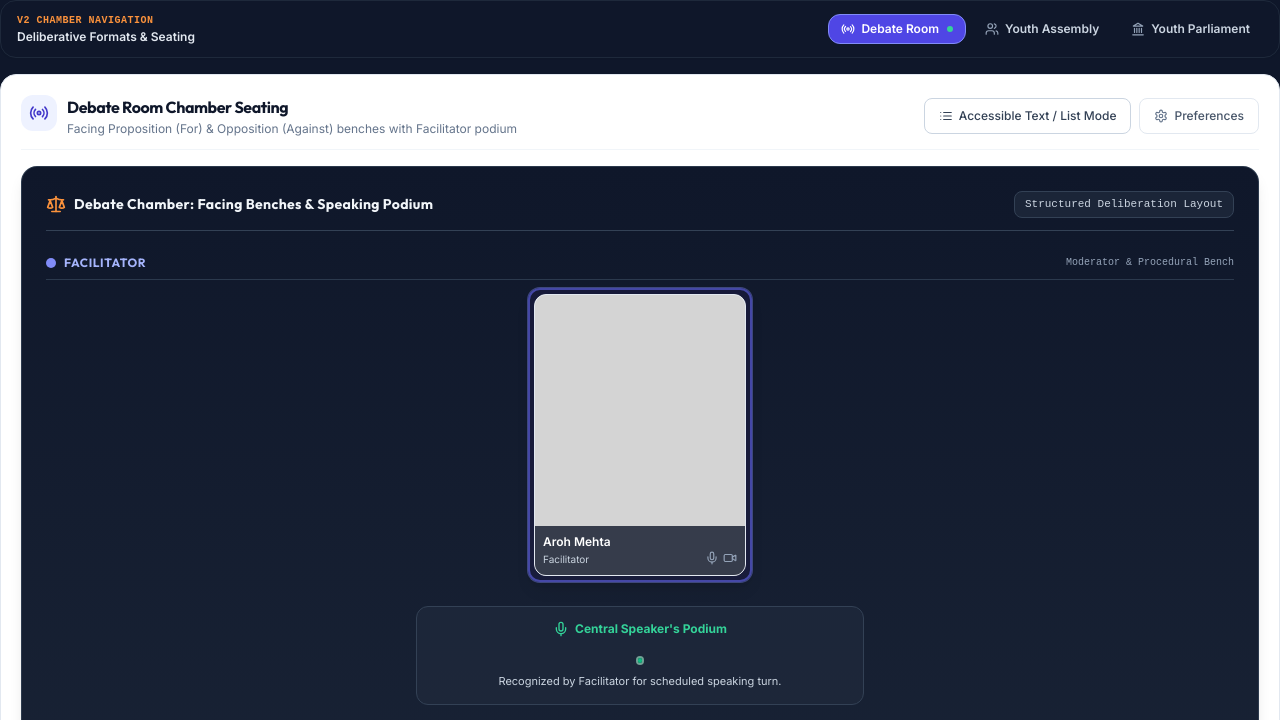
Test: Review Additions #4: Text Mode, Low Data Preference & Session Continuity › 5. Low Data Preference in Settings Surface › reactively toggles Low Data indicator in SessionSeating immediately upon preference toggle without closing modal
# Open Preferences
Click the button with test id "session-settings-btn". click: (1199, 116)
box: top-left (1139, 98), bottom-right (1259, 134)
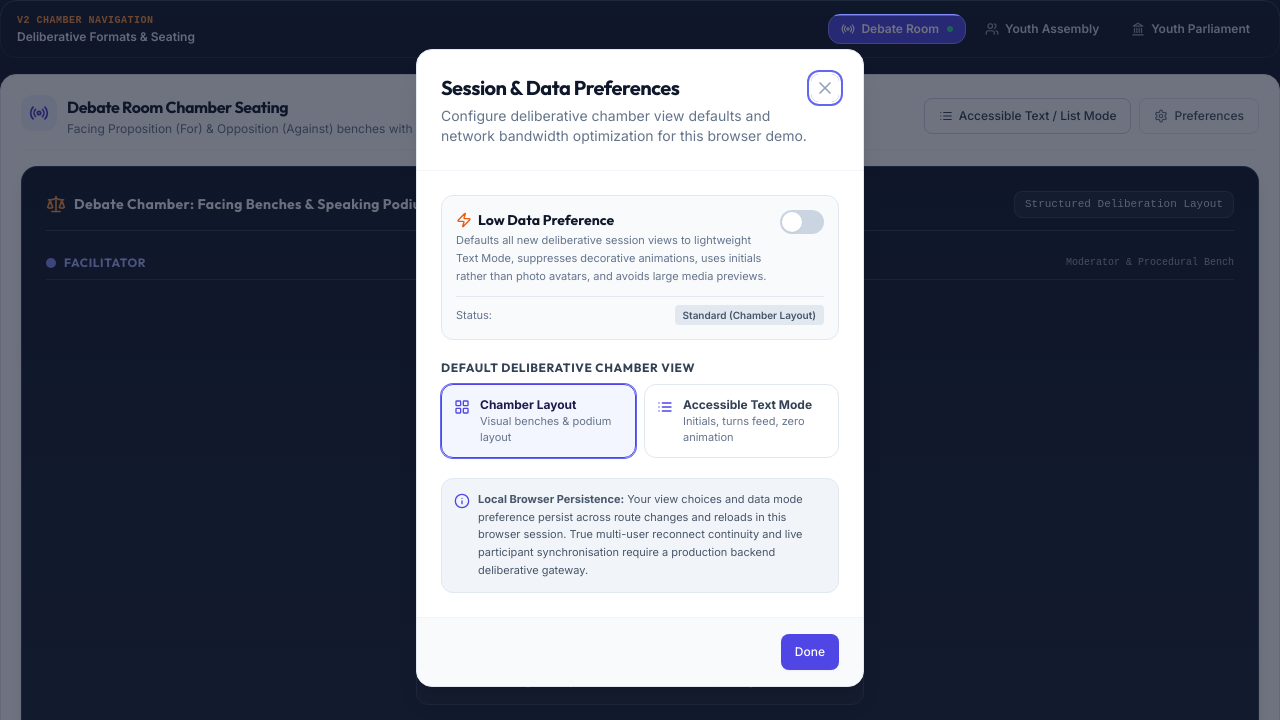
Expected: the element with test id "settings-surface-modal" is shown, top-left (441, 195), bottom-right (839, 593)
# Click toggle switch inside modal
Click the switch with test id "low-data-toggle". click: (802, 222)
box: top-left (780, 210), bottom-right (824, 234)
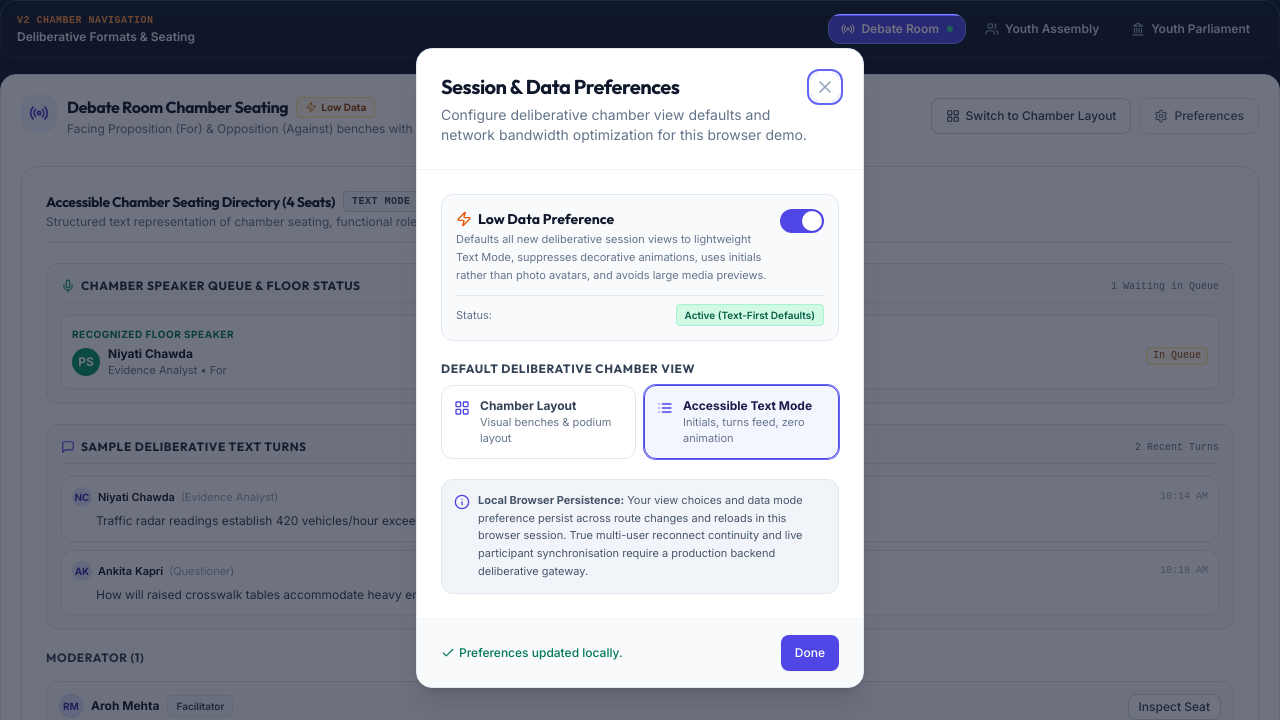
Expected: the element with test id "low-data-indicator" is shown, top-left (296, 96), bottom-right (375, 118)
# Toggle back off
Click the switch with test id "low-data-toggle". click: (802, 221)
box: top-left (780, 209), bottom-right (824, 233)
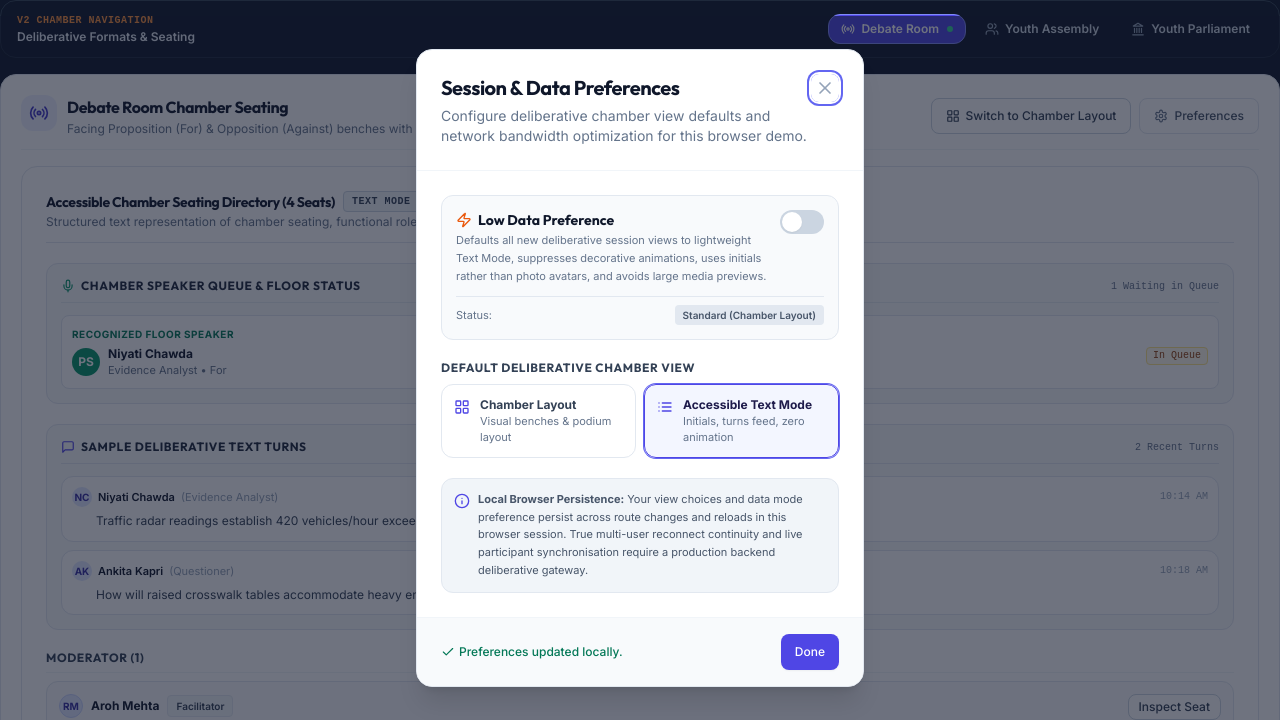
Expected: the element with test id "low-data-indicator" is gone
